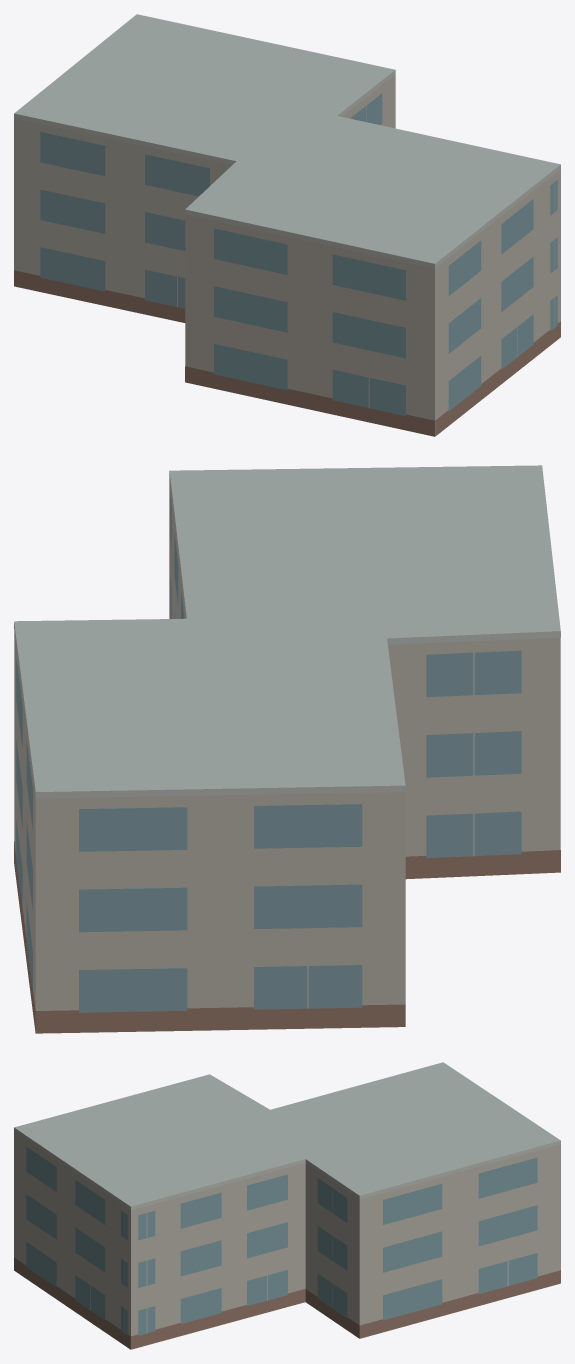
The model's file is survey-upis-32731799.glb.
3 renders of one model, top to bottom at view 1: azimuth 30°, elevation 25°; view 2: azimuth 150°, elevation 25°; view 3: azimuth 270°, elevation 25°, orthographic. The views are drawn at different scales.
Visible parts, largest first — view 1: survey-upis-32731799.tmp; view 2: survey-upis-32731799.tmp; view 3: survey-upis-32731799.tmp.
Part boxes in pixels (x1,y1,x2,y2): survey-upis-32731799.tmp: (14,14,560,436); survey-upis-32731799.tmp: (14,465,560,1033); survey-upis-32731799.tmp: (14,1062,560,1349).
Bounding box in the file's own units: 19.83 × 9.15 × 31.71.
